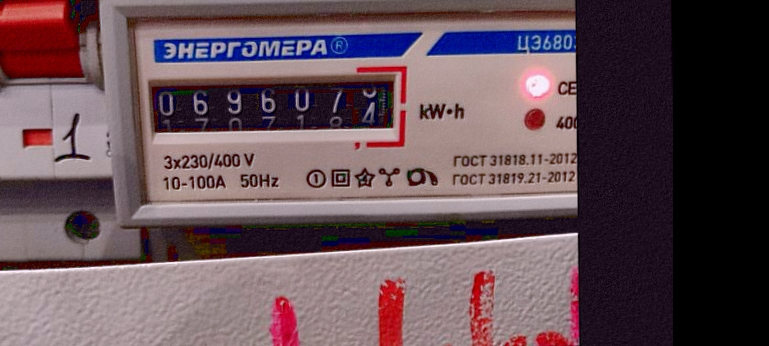0: (292, 84, 311, 114), (158, 89, 175, 117)
4: (360, 98, 377, 127)
6: (259, 85, 277, 114), (192, 88, 209, 116)
7: (326, 84, 346, 115)
9: (225, 87, 243, 116)
screen: (135, 62, 413, 150)
